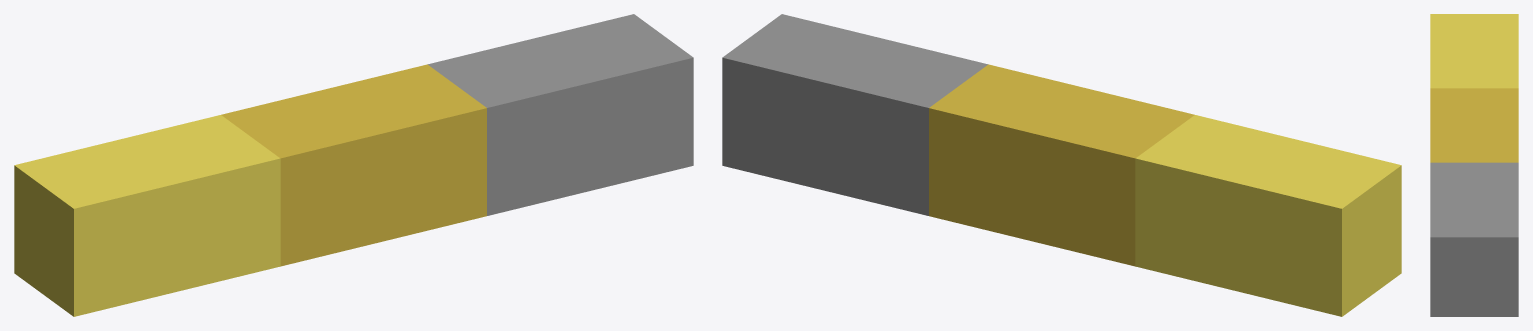
3 renders of one model, left to right at view 1: azimuth 30°, elevation 25°; view 2: azimuth 150°, elevation 25°; view 3: azimuth 270°, elevation 25°, orthographic. The views are drawn at different scales.
Parts seen in each view (by area): view 1: S&W Stack; view 2: S&W Stack; view 3: S&W Stack.
Part boxes in pixels (x1,y1,x2,y2): S&W Stack: (14,14,693,316); S&W Stack: (722,14,1401,316); S&W Stack: (1430,14,1518,316).
Size of the model in its own units: 0.6 by 0.1 by 0.1.
1 material, 1 textured.
